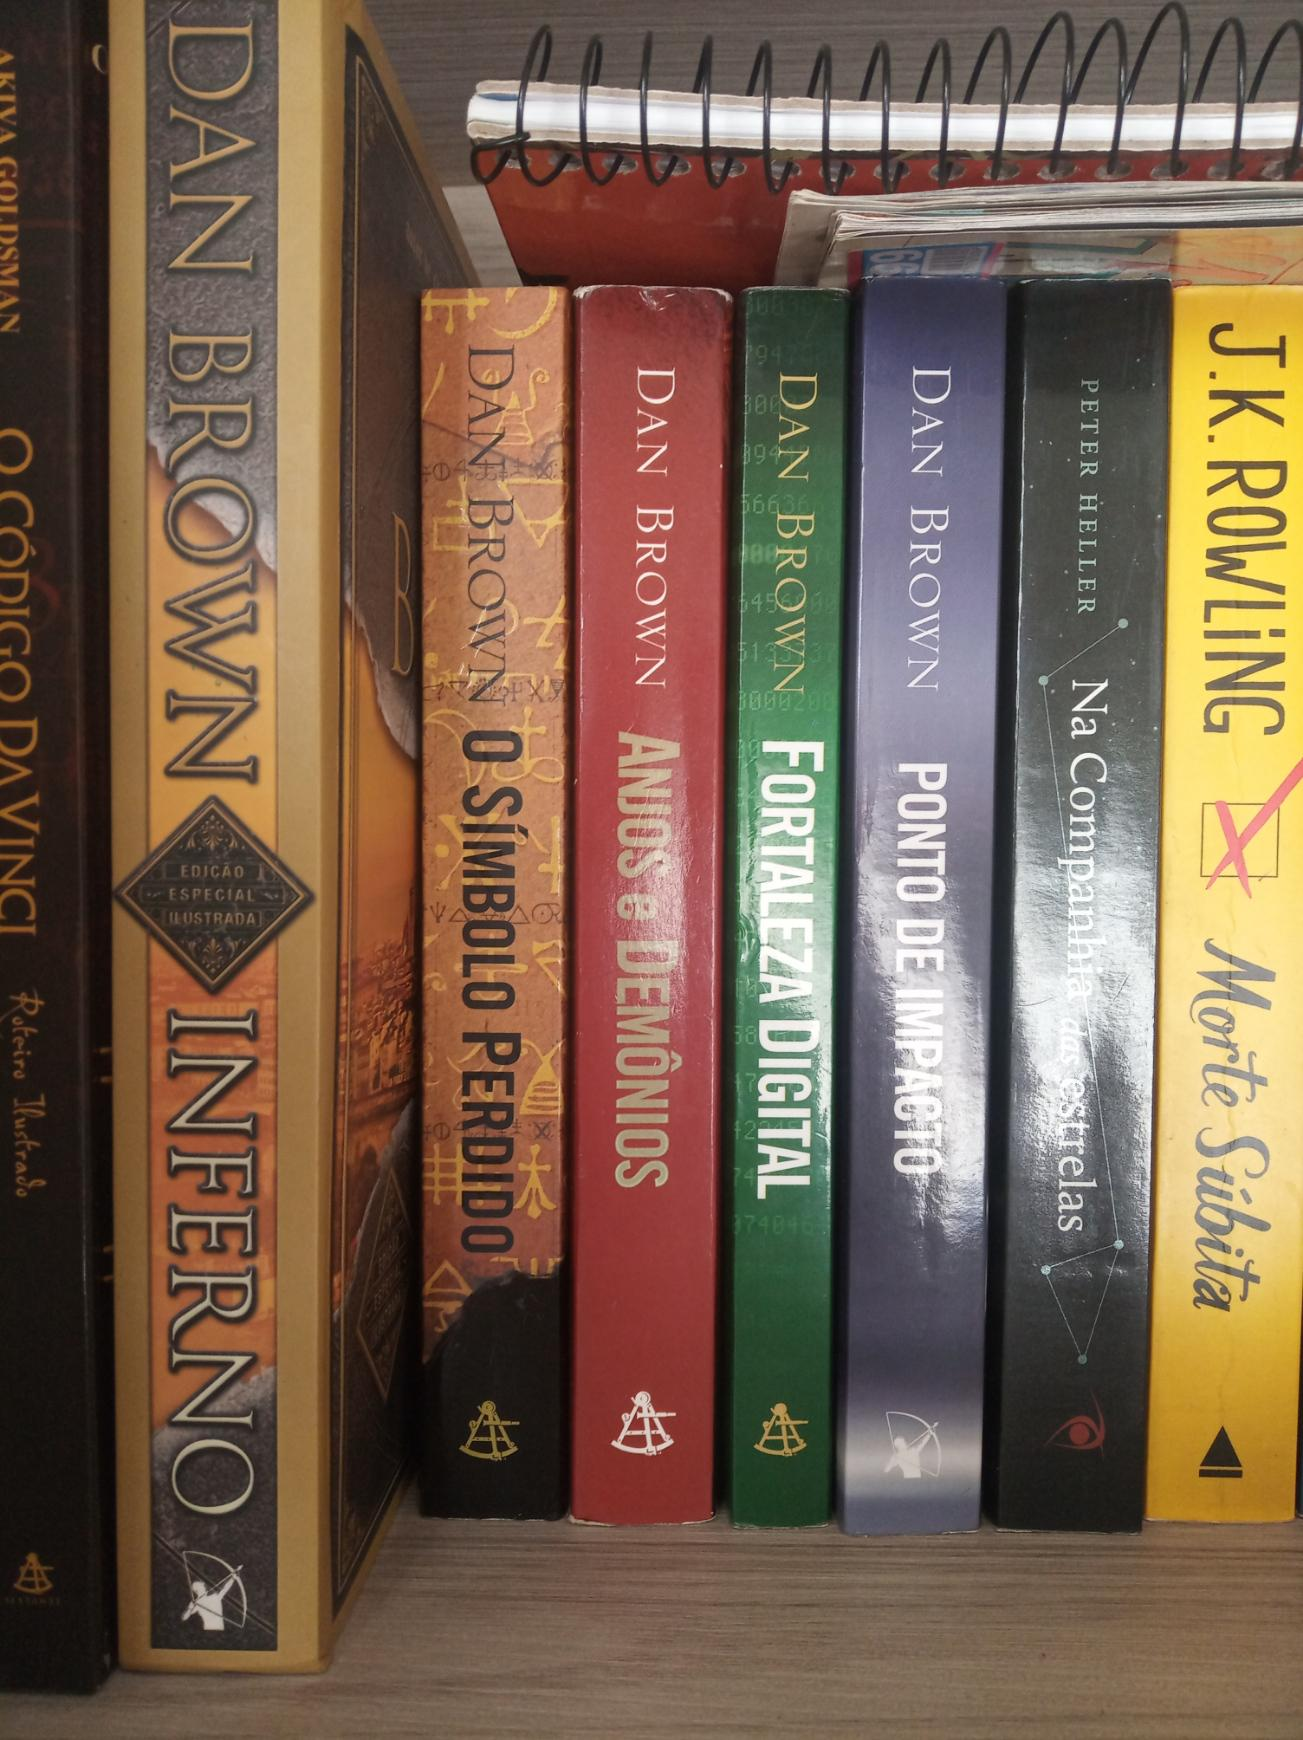book: (116, 11, 301, 1663), (1013, 292, 1135, 1526), (1172, 293, 1293, 1528), (584, 304, 705, 1517), (428, 304, 545, 1515), (860, 292, 970, 1535), (740, 301, 821, 1526)
